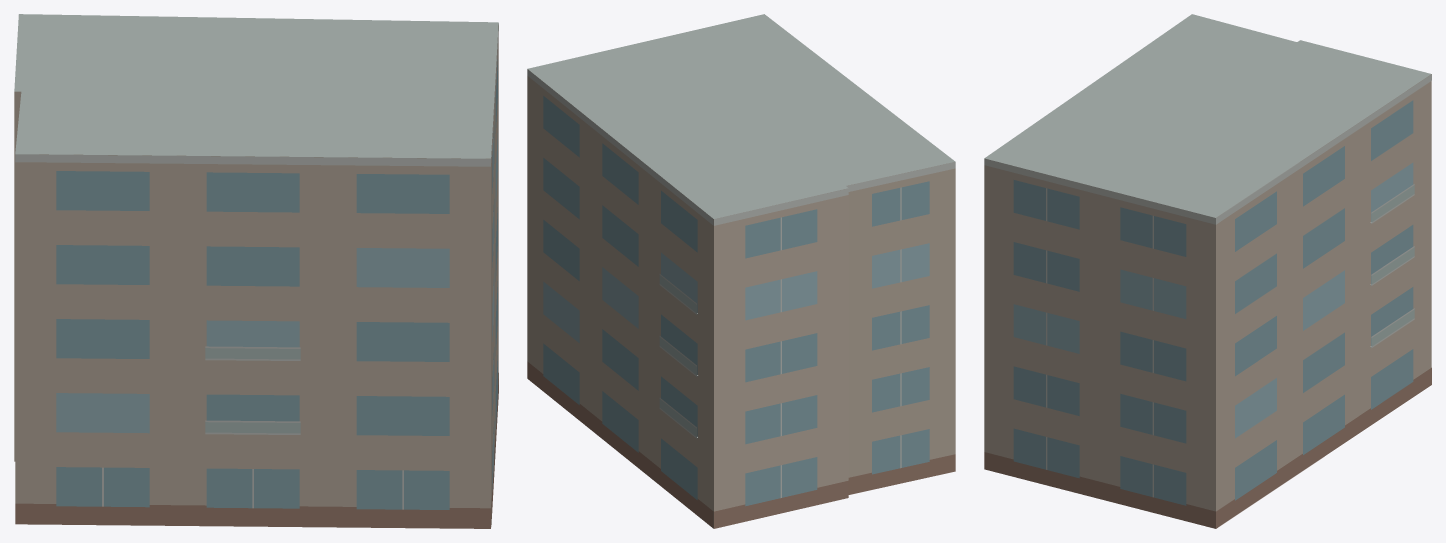
Rendered from survey-upis-32744805.glb.
The picture shows the model from 3 angles, left to right: view 1: azimuth 30°, elevation 25°; view 2: azimuth 150°, elevation 25°; view 3: azimuth 270°, elevation 25°; orthographic projection. The views are drawn at different scales.
Parts seen in each view (by area): view 1: survey-upis-32744805.tmp; view 2: survey-upis-32744805.tmp; view 3: survey-upis-32744805.tmp.
Boxes of the visible parts, bbox=[...] form: survey-upis-32744805.tmp: bbox=[14, 14, 498, 528]; survey-upis-32744805.tmp: bbox=[527, 14, 955, 528]; survey-upis-32744805.tmp: bbox=[984, 14, 1431, 528].
Size of the model in its own units: 15.77 by 11.2 by 14.62.
